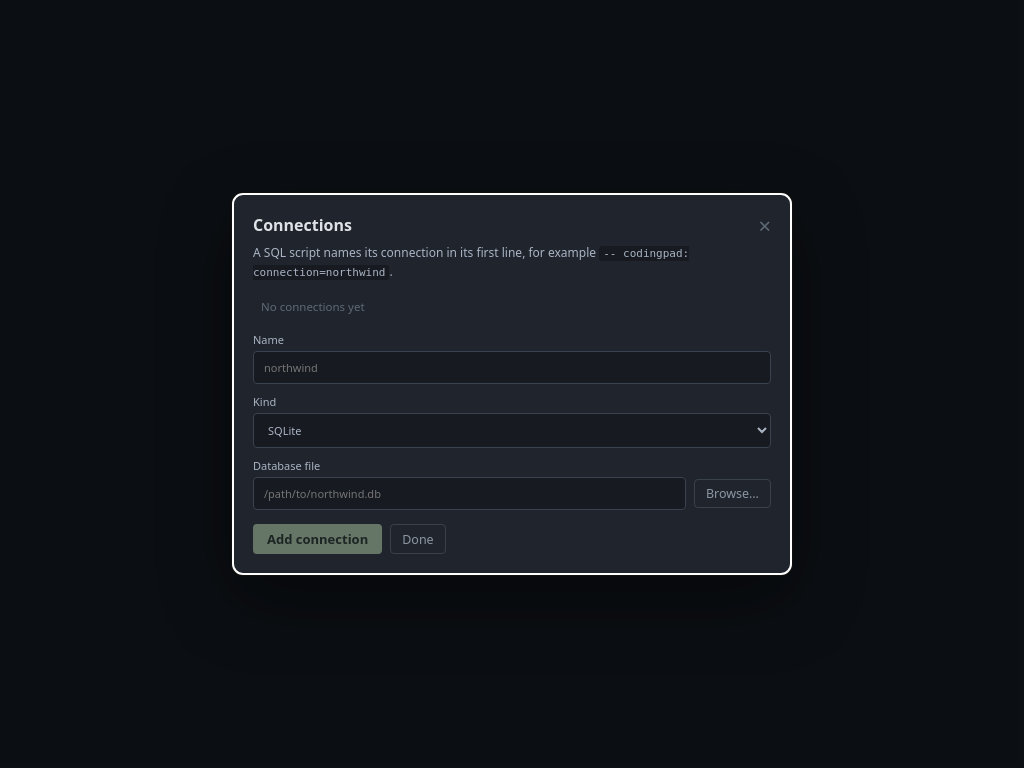
Test: rejects connection names with spaces before saving
Step 1. Type "my db" into the field labelled "Name" → (512,368), box [253, 351, 771, 384]
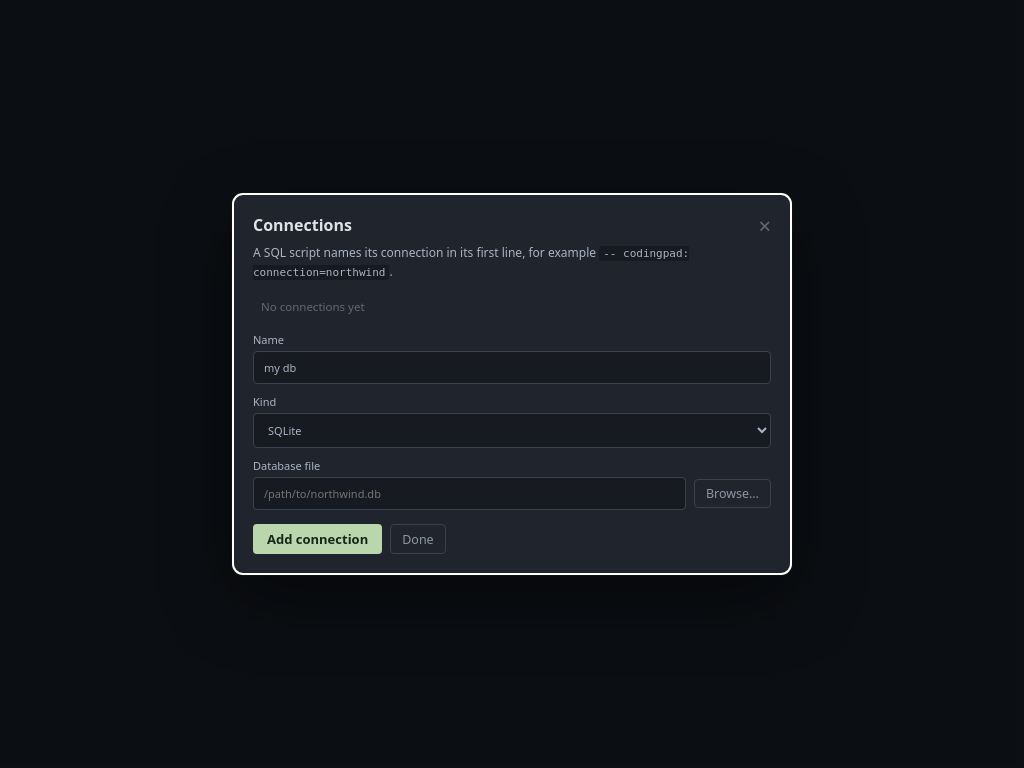
Step 2. Type "/tmp/my.db" into the field labelled "Database file" → (469,494), box [253, 477, 686, 510]
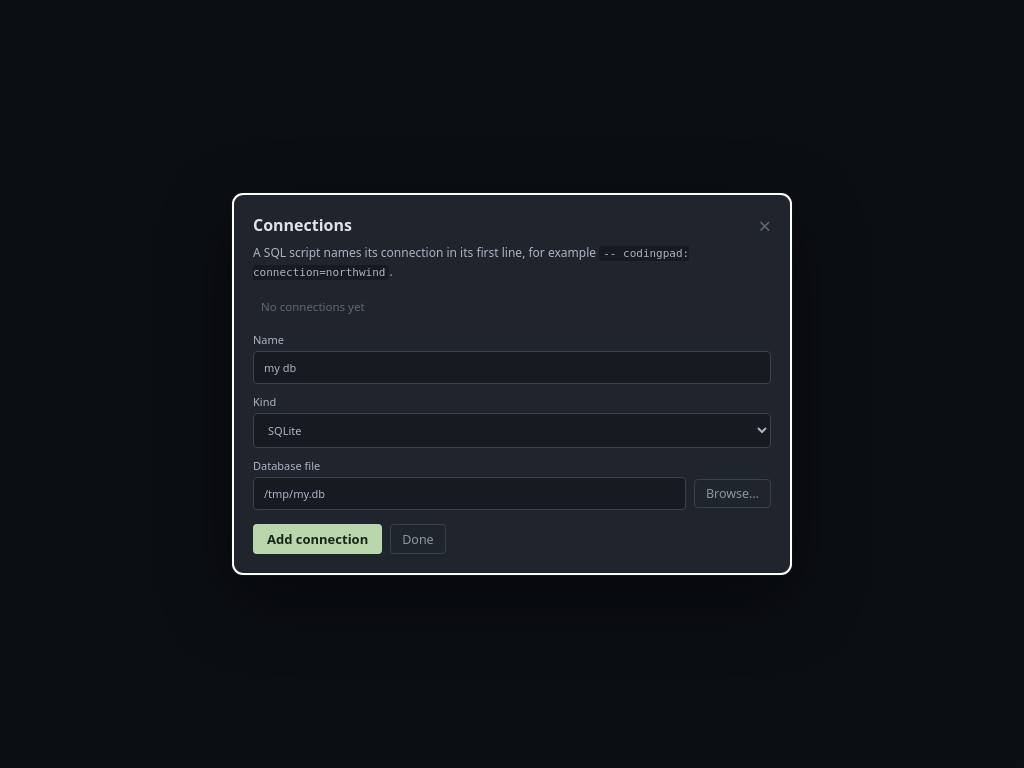
Step 3. Click the button "Add connection" → (318,539), box [253, 524, 382, 554]
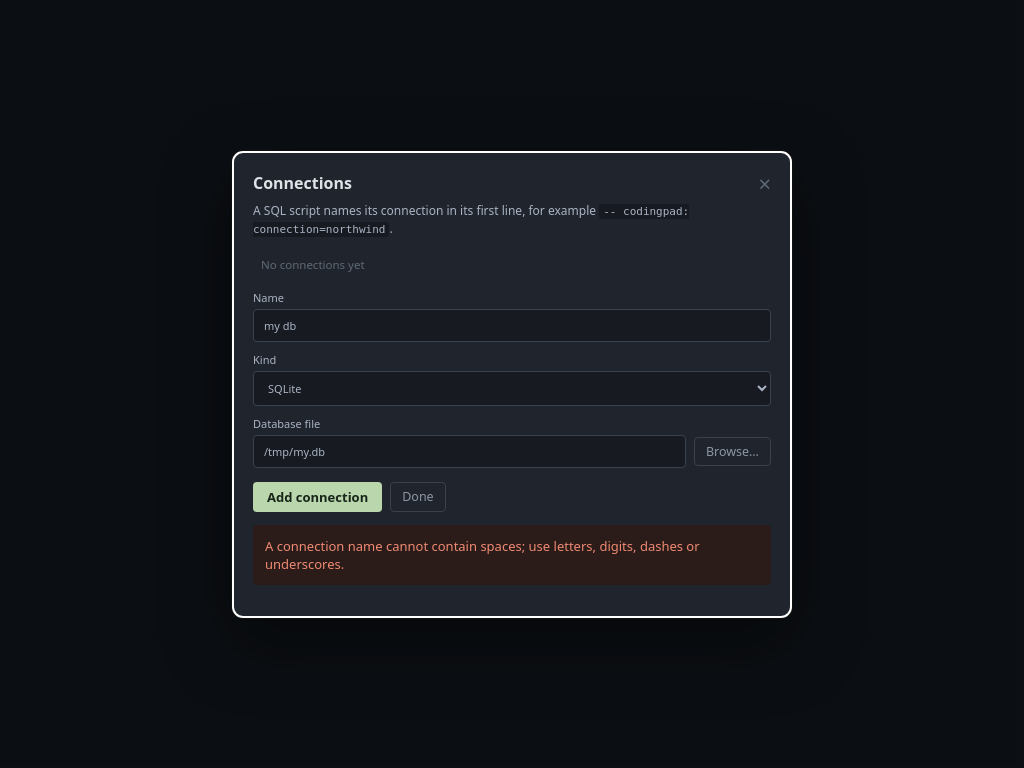
Now the message shows "cannot contain spaces", box [265, 536, 703, 572]
